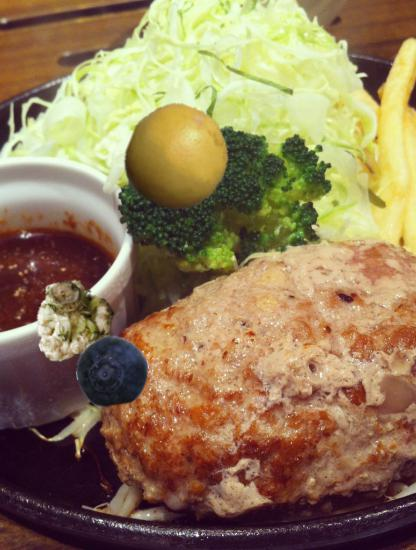Blueberry: (76, 334, 149, 407)
Cauliflower: (31, 275, 116, 360)
Grapefruit: (124, 103, 231, 210)
